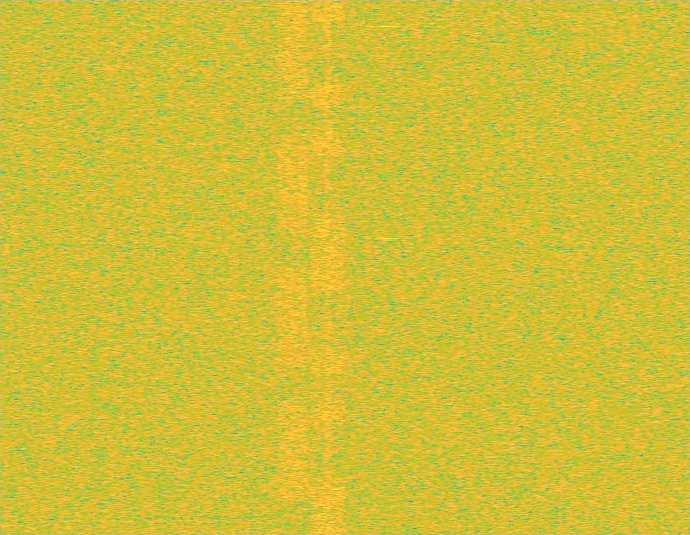5G: (276, 0, 311, 534)
DSSS: (324, 0, 332, 534)
LTE: (311, 0, 345, 534)
Radar: (381, 0, 395, 534)
